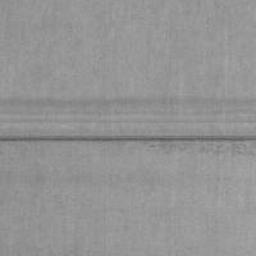Welding line: (0, 134, 256, 143)
